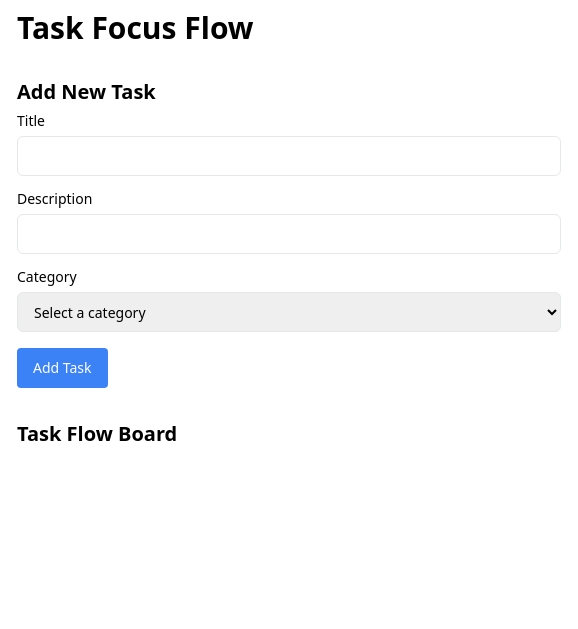
App Component Context › Handles deleting an item
This screenshot has width=578, height=629.
In the field labelled "Title": x=289, y=156 [17,136,561,176], type "Test Title"
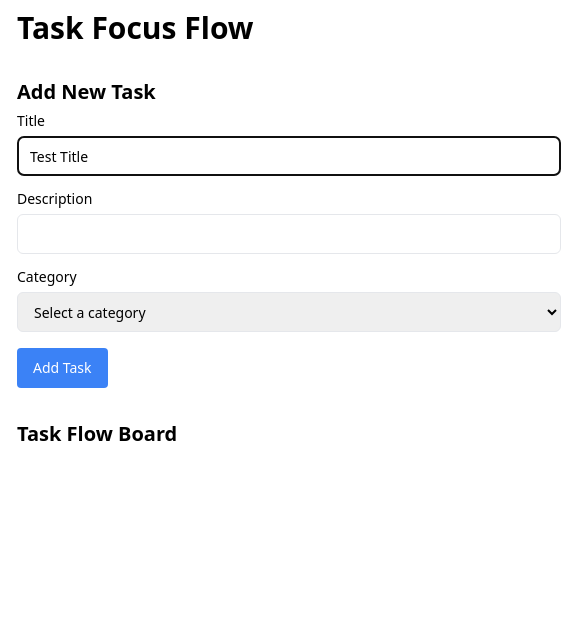
In the field labelled "Description": x=289, y=234 [17,214,561,254], type "Test Description"
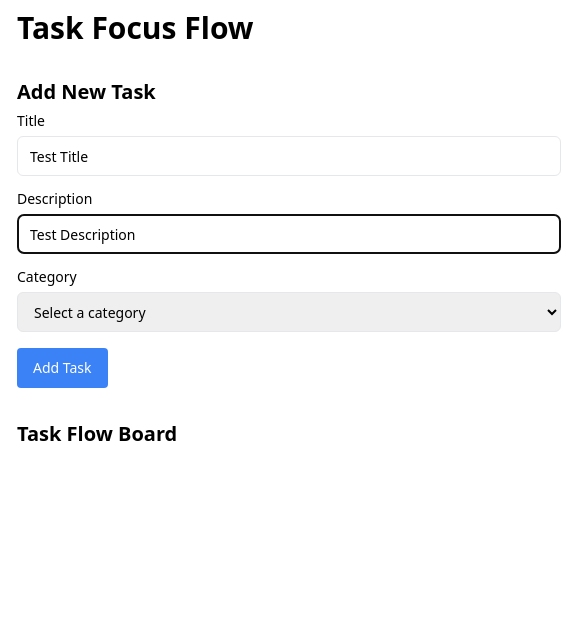
Select "Urgent" in the dropdown labelled "Category": x=289, y=312 [17,292,561,332]
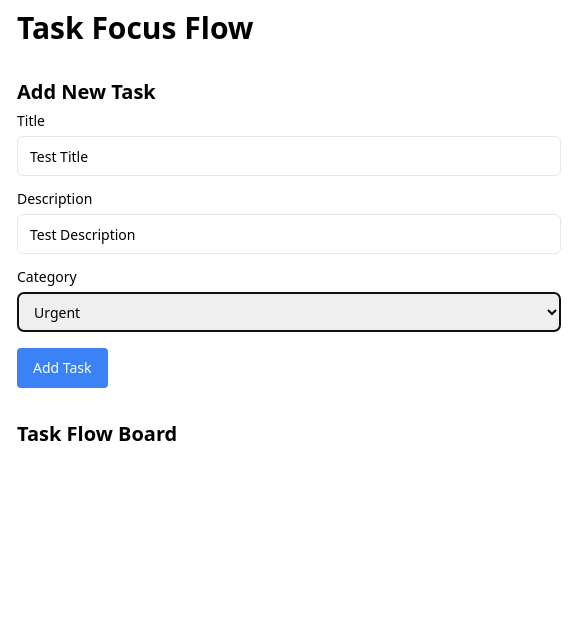
Click the button "Add task": x=62, y=368 [17,348,108,388]
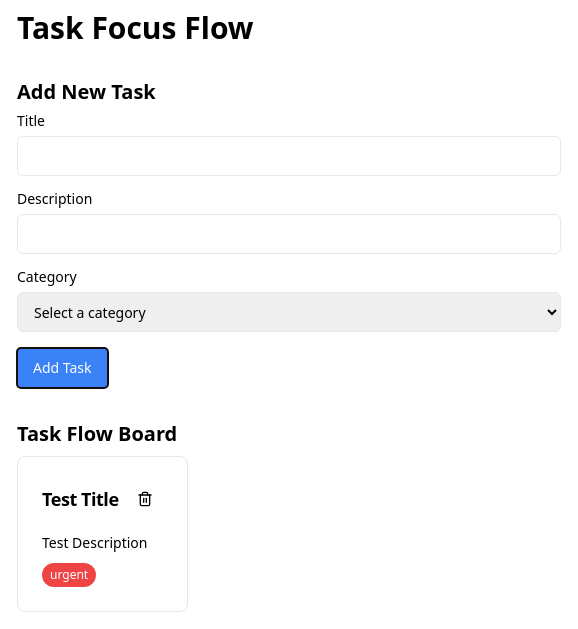
expect the button named "delete" is shown: met
Click the button named "delete": x=145, y=499 [127,481,163,517]
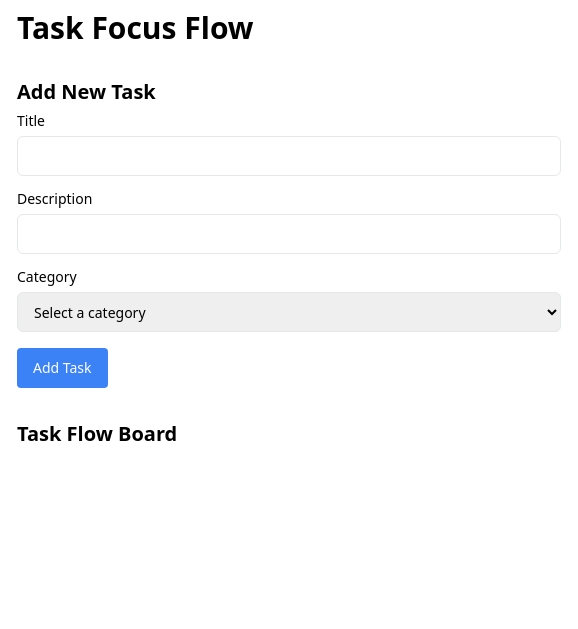
expect the heading "Test Title" is gone: met
expect the text "Test Description" is gone: met
